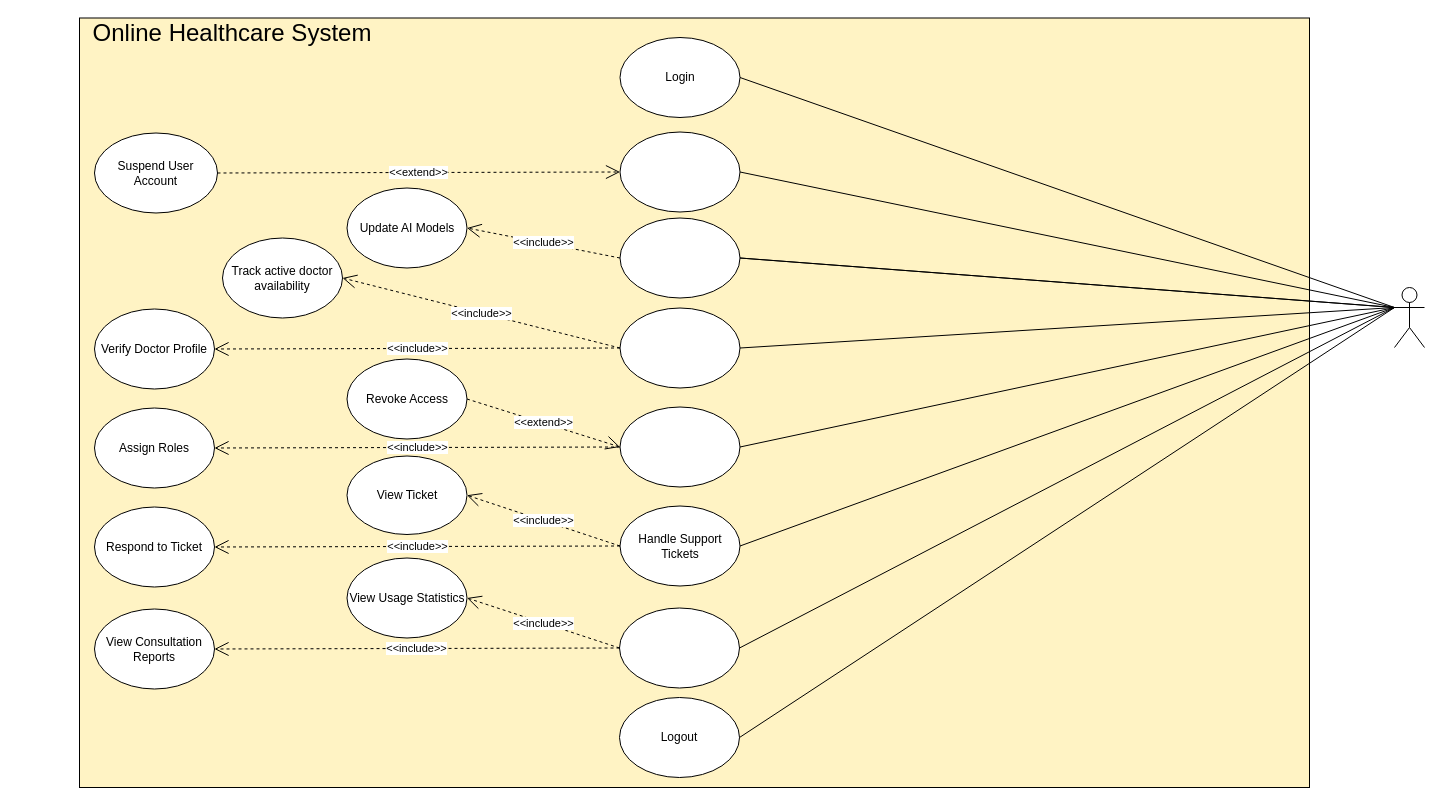
The diagram is 1444 pixels wide and 805 high, and some of its shapes have lost their labels. The centre of each missing label's shape, as x and y in pixels:
"Admin" belongs at [1409,317].
"Manage AI Assistant Settings" belongs at [679,257].
"Manage Doctors" belongs at [679,347].
"Manage Permissions" belongs at [679,446].
"Manage Users" belongs at [679,171].
"View Reports & Analytics" belongs at [679,647].
